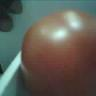tomato: (20, 14, 96, 96)
